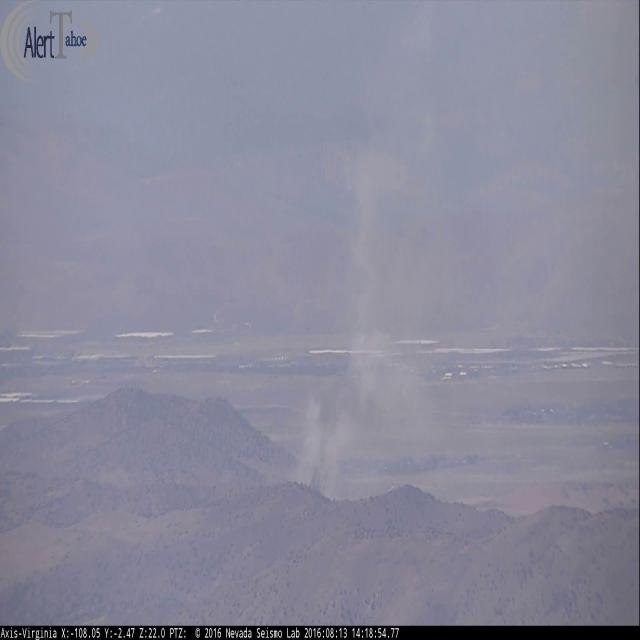smoke: (289, 0, 472, 500)
